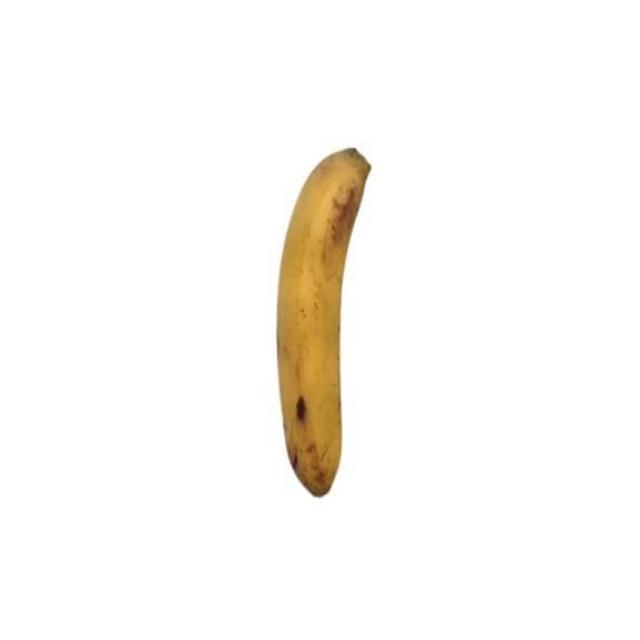Banana: (272, 147, 376, 493)
